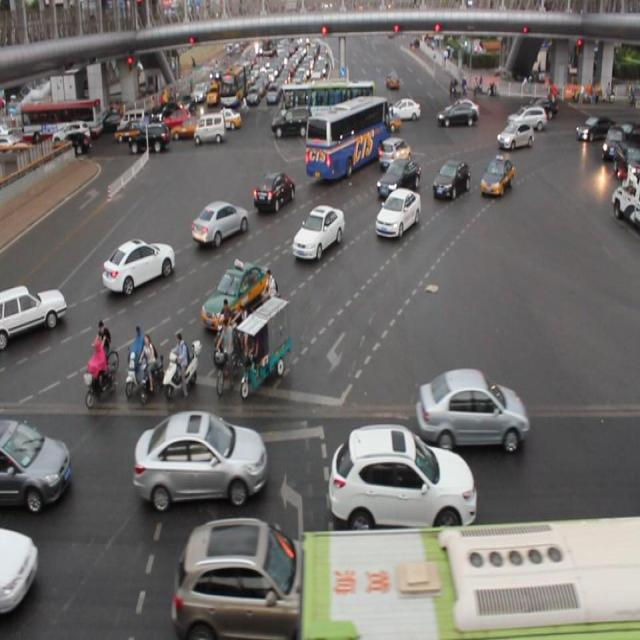car: (172, 518, 318, 640), (328, 424, 476, 530), (131, 406, 268, 508), (415, 365, 529, 452), (1, 412, 71, 510), (202, 266, 275, 331), (1, 280, 68, 350), (102, 236, 176, 296), (289, 200, 344, 265), (1, 524, 40, 615), (190, 199, 248, 245), (374, 188, 421, 238), (431, 157, 471, 200), (375, 156, 420, 194), (253, 173, 293, 210), (478, 156, 512, 195), (496, 119, 534, 150), (378, 136, 411, 164)
van: (301, 511, 640, 640), (308, 96, 390, 178)
